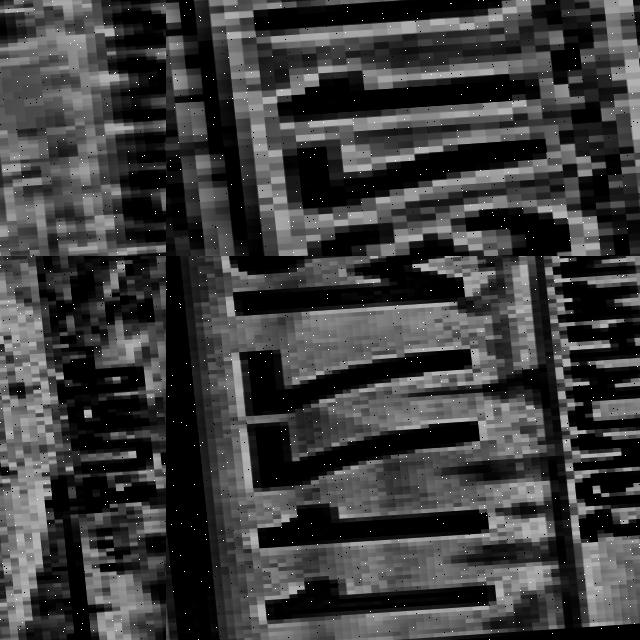license-plate: (166, 256, 640, 640), (166, 0, 640, 256), (0, 256, 166, 640), (0, 0, 166, 256)
